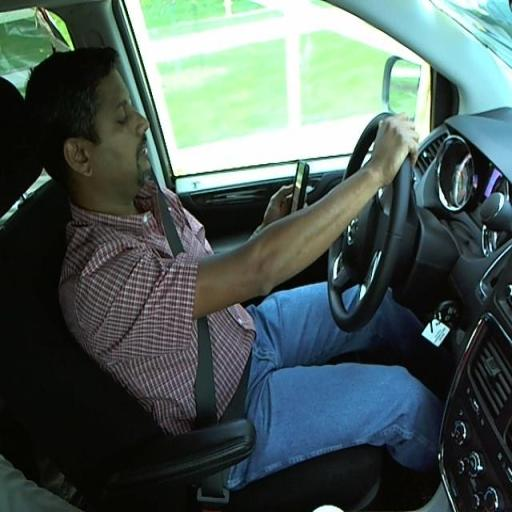texting_phone: (34, 62, 416, 389)
